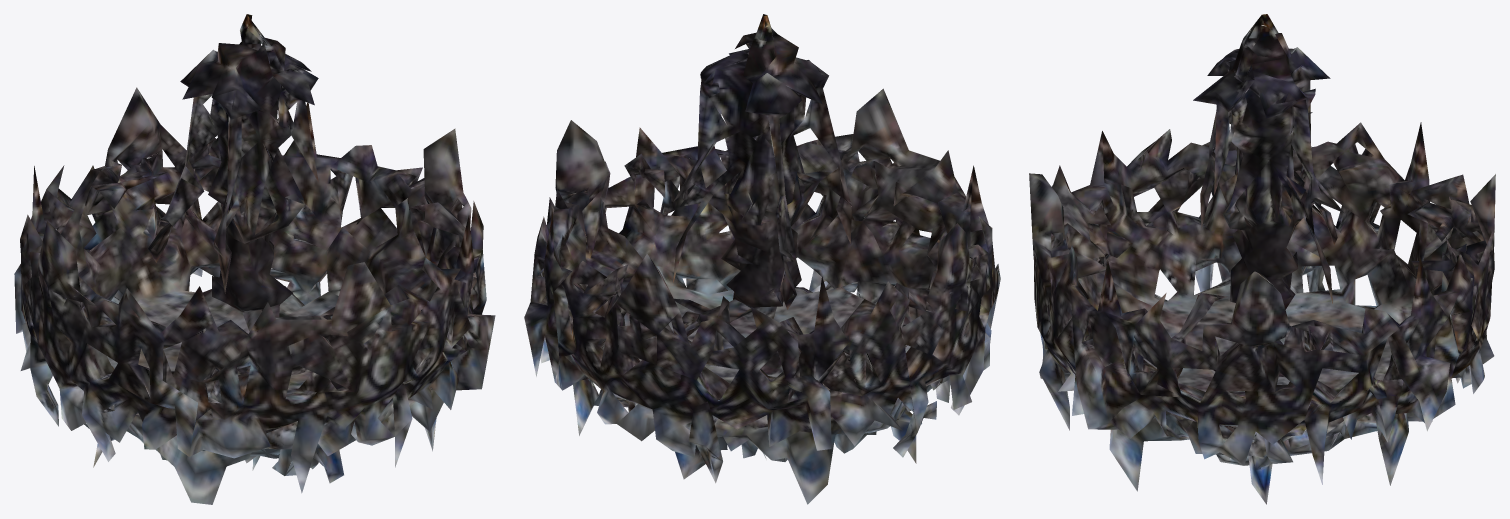
The model's file is 44f88a75cca3_Intricately_designe.fbx.
3 views of the same model, side by side, from view 1: azimuth 30°, elevation 25°; view 2: azimuth 150°, elevation 25°; view 3: azimuth 270°, elevation 25° (orthographic).
Visible parts, largest first — view 1: mesh; view 2: mesh; view 3: mesh.
Boxes of the visible parts, bbox=[...] form: mesh: bbox=[14, 14, 495, 504]; mesh: bbox=[524, 14, 1000, 504]; mesh: bbox=[1029, 14, 1495, 504].
Bounding box in the file's own units: 92.41 × 99.06 × 92.37.
